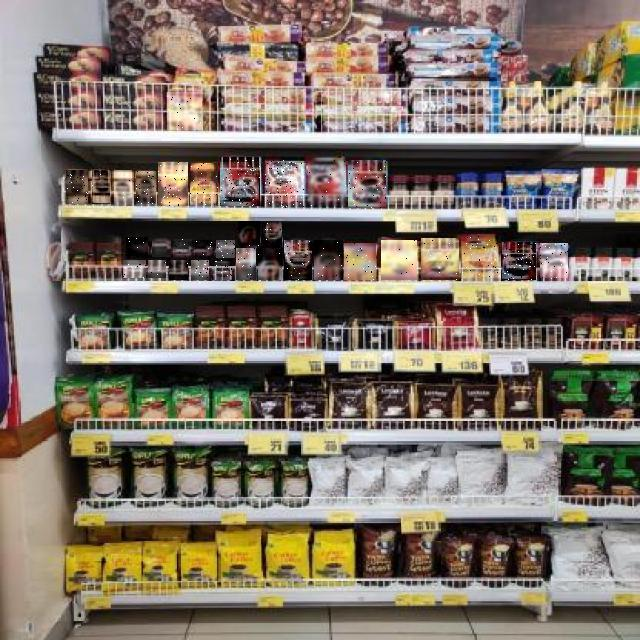Coffee: (220, 157, 260, 206), (265, 160, 304, 208), (308, 159, 346, 207), (349, 160, 387, 208), (461, 235, 499, 280), (421, 238, 459, 280), (381, 240, 417, 280), (167, 93, 202, 131), (158, 162, 188, 206), (502, 243, 536, 281), (191, 163, 219, 207), (344, 243, 376, 280), (314, 240, 343, 280), (285, 240, 313, 280), (541, 244, 569, 280), (66, 171, 88, 205), (258, 249, 282, 280), (136, 172, 156, 206), (236, 248, 256, 280), (92, 170, 110, 204), (114, 171, 132, 205), (238, 222, 260, 248), (263, 223, 283, 249), (126, 238, 148, 258), (123, 260, 146, 278), (213, 260, 233, 280), (169, 260, 188, 280), (152, 238, 171, 257), (173, 239, 192, 258), (191, 260, 209, 280), (195, 240, 214, 258), (216, 240, 235, 258), (148, 260, 166, 278)
